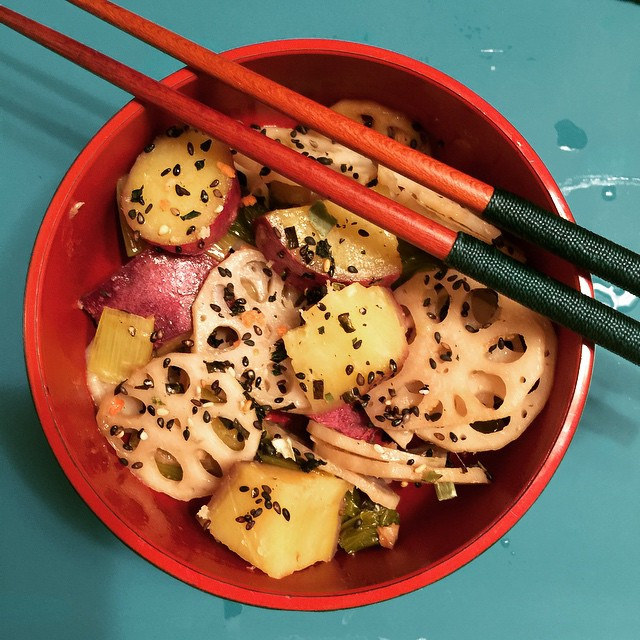boiled potatoes: (275, 288, 397, 396), (215, 474, 347, 573)
